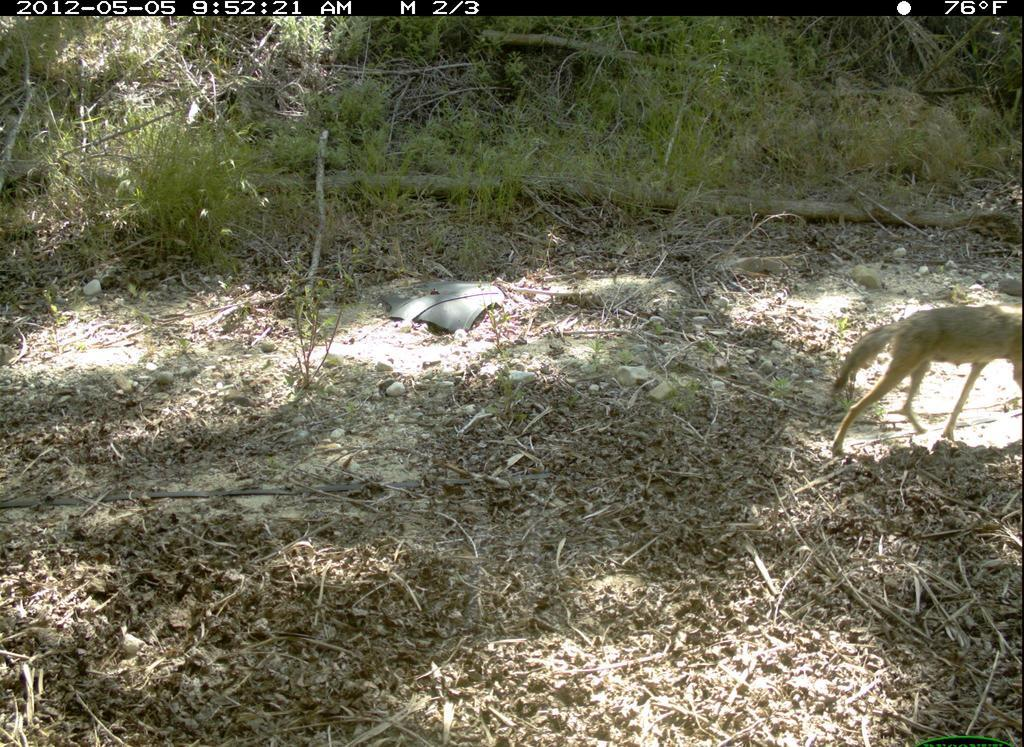coyote: (827, 285, 1023, 454)
